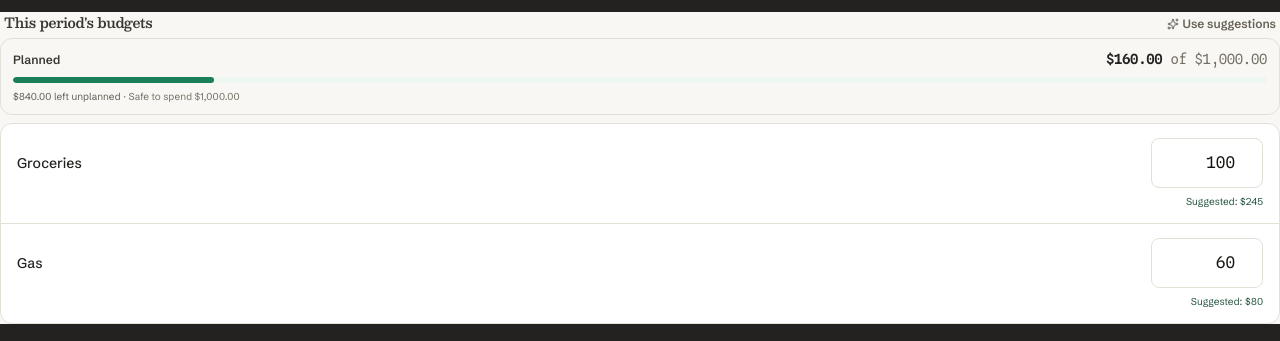
Test: BucketPlanEditor editing behaviour › applies every suggestion at once, then restores the saved limits
This screenshot has width=1280, height=341.
Expected: the button "Reset to last" is not shown
What coordinates should you click on to do the following:
click the button "Use suggestions"
I would click on:
 (1221, 24)
Its box is [1166, 16, 1276, 32].
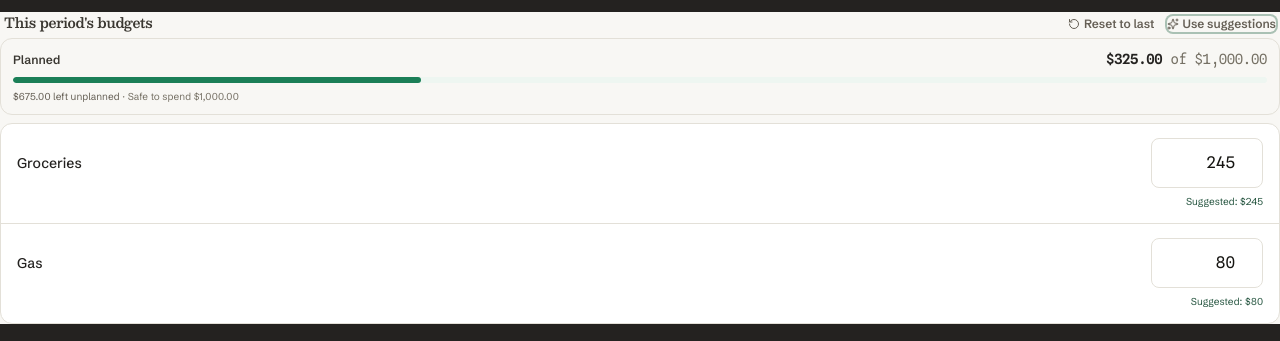
Expected: the element with test id "bucket-plan-meter" shows "$325.00 of $1,000.00", [0, 38, 1279, 115]
What coordinates should you click on to do the following:
click the button "Reset to last"
I would click on:
 (1111, 24)
Its box is [1068, 16, 1154, 32].
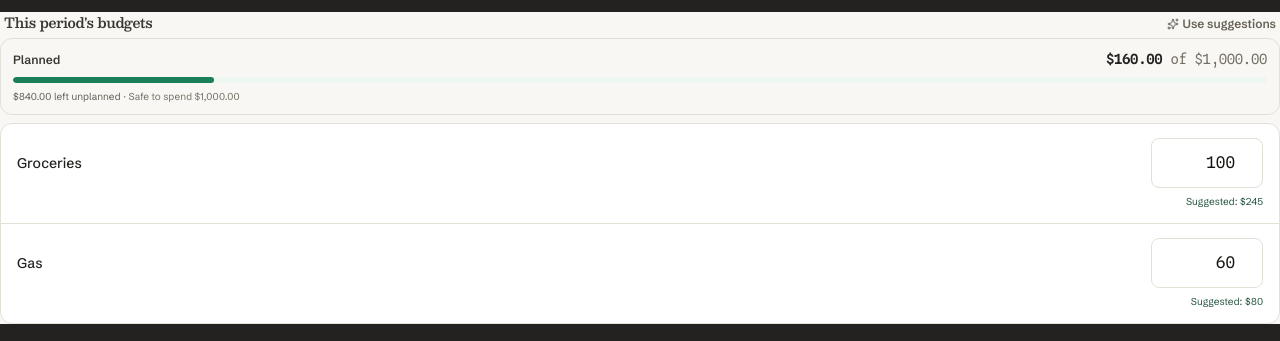
Expected: the element with test id "bucket-plan-meter" shows "$160.00 of $1,000.00", [0, 38, 1279, 115]
Expected: the button "Reset to last" is gone
